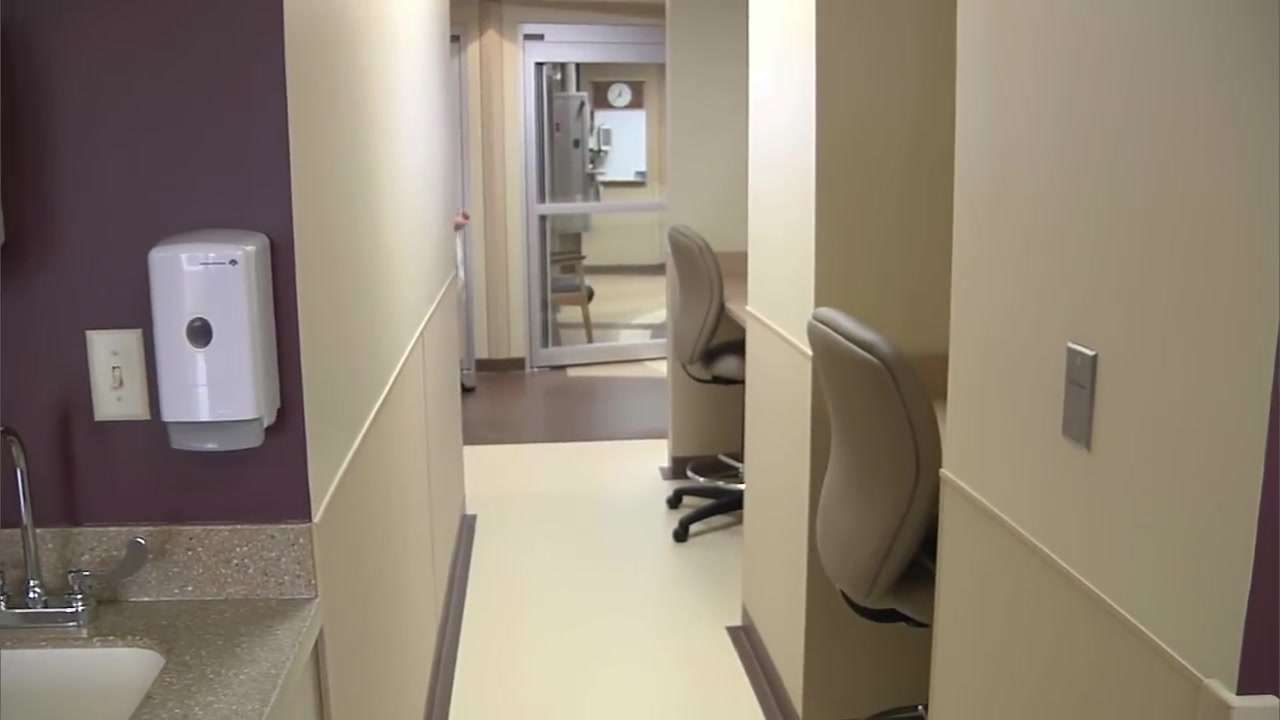chair: (803, 304, 941, 720), (665, 222, 746, 542), (543, 249, 596, 344)
countertop: (1, 591, 294, 717), (718, 277, 746, 325)
dispenser: (146, 231, 280, 453)
faucet: (1, 425, 144, 627)
light_switch: (81, 329, 150, 424)
sink: (1, 647, 164, 720)
